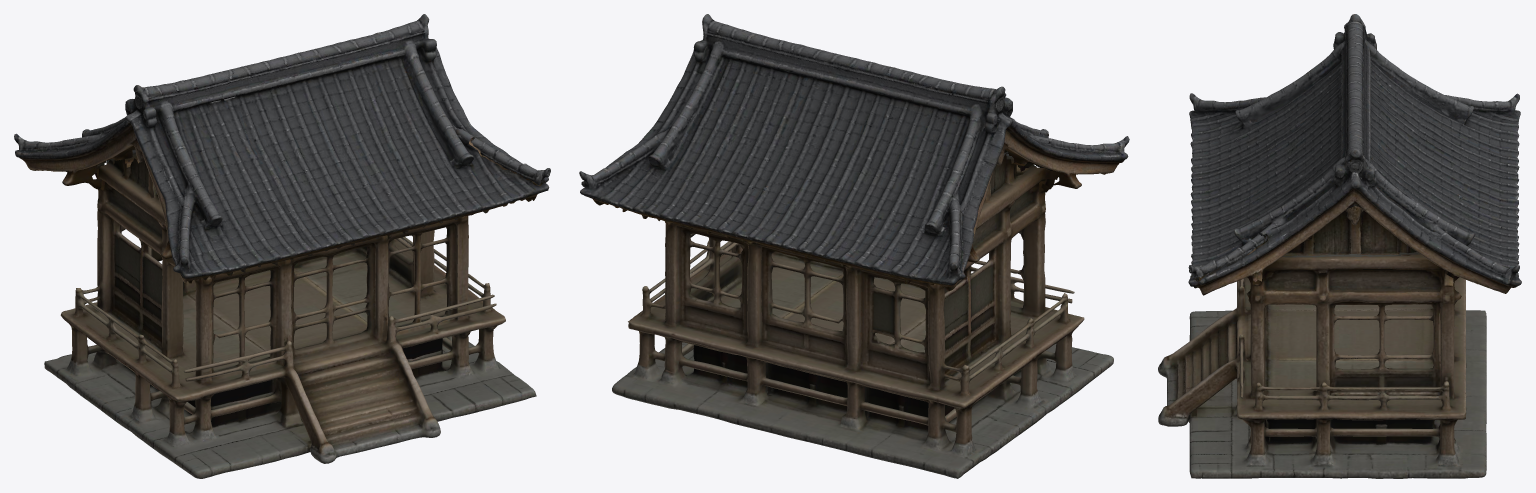
3 views of the same model, side by side, from view 1: azimuth 30°, elevation 25°; view 2: azimuth 150°, elevation 25°; view 3: azimuth 270°, elevation 25° (orthographic). The views are drawn at different scales.
Parts seen in each view (by area): view 1: tripo_part_1.001, tripo_part_0.001, tripo_part_3.001; view 2: tripo_part_1.001, tripo_part_0.001; view 3: tripo_part_1.001, tripo_part_0.001, tripo_part_3.001.
Boxes of the visible parts, x1=… form: tripo_part_1.001: x1=44, y1=158, x2=536, y2=478; tripo_part_0.001: x1=14, y1=14, x2=549, y2=283; tripo_part_3.001: x1=470, y1=137, x2=550, y2=184; tripo_part_1.001: x1=612, y1=153, x2=1113, y2=478; tripo_part_0.001: x1=579, y1=14, x2=1129, y2=291; tripo_part_1.001: x1=1158, y1=235, x2=1486, y2=478; tripo_part_0.001: x1=1188, y1=14, x2=1521, y2=295; tripo_part_3.001: x1=1188, y1=233, x2=1267, y2=280.
Bounding box in the file's own units: 99.76 × 83.38 × 86.52.
Materials: 4 (4 with a texture image).
